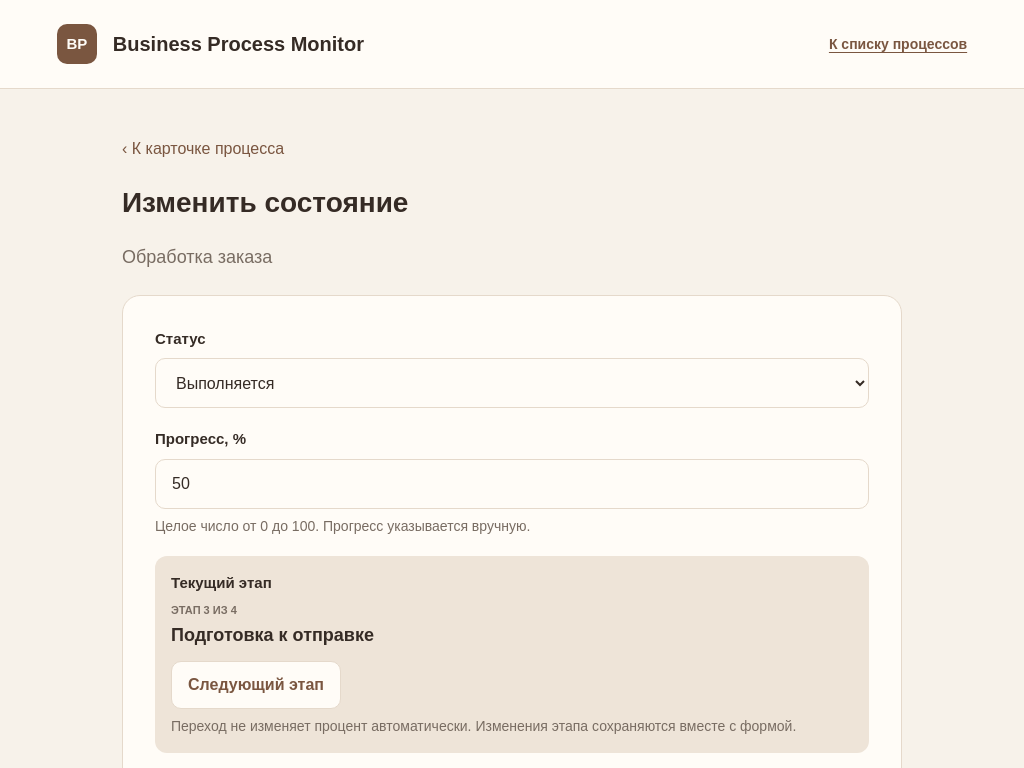
R1 / FE-016: валидация перед сохранением › V01:  (пустой ввод) вызывает ошибку без записи и потери черновика
Clear the field labelled "Прогресс, %". click: (512, 484)
box: [155,459,869,509]
(page scrolled)
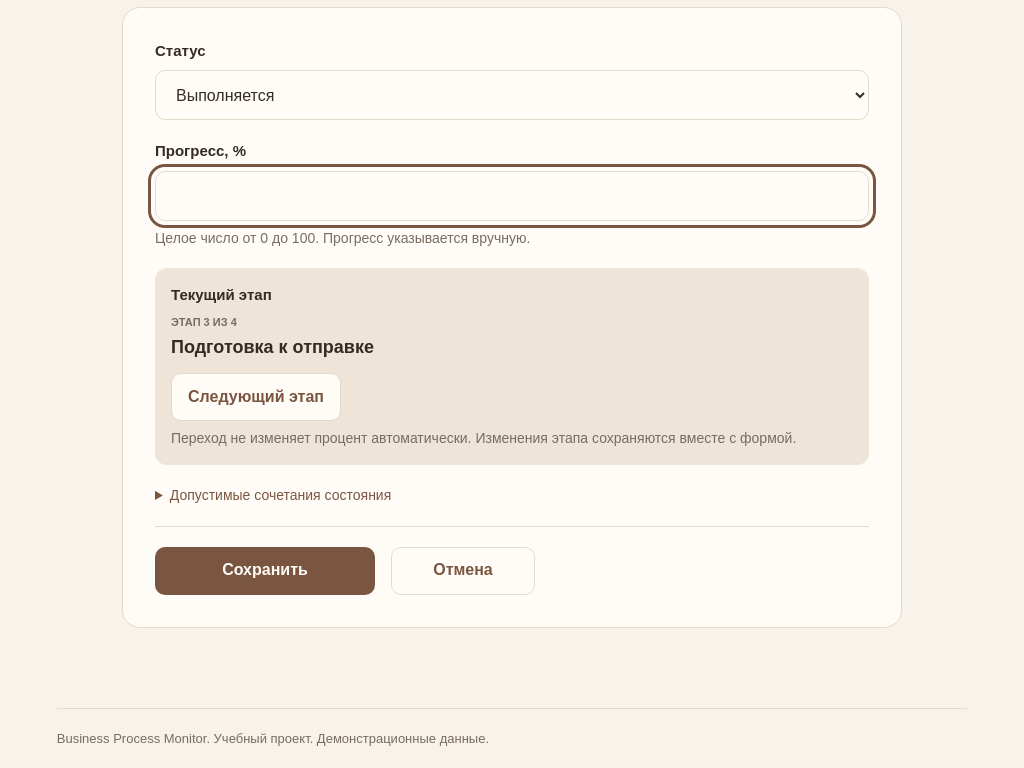
Click the button "Сохранить". click: (265, 571)
box: [155,547,375,595]
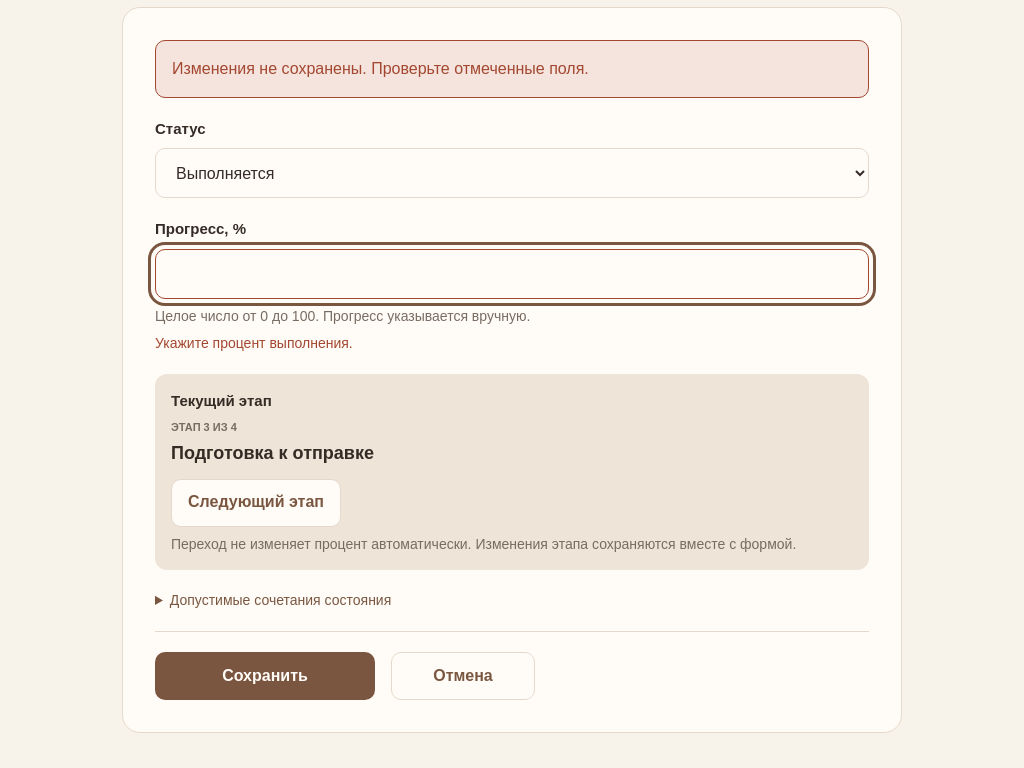
Expected: the message shows "Изменения не сохранены", [172,60,589,77]
